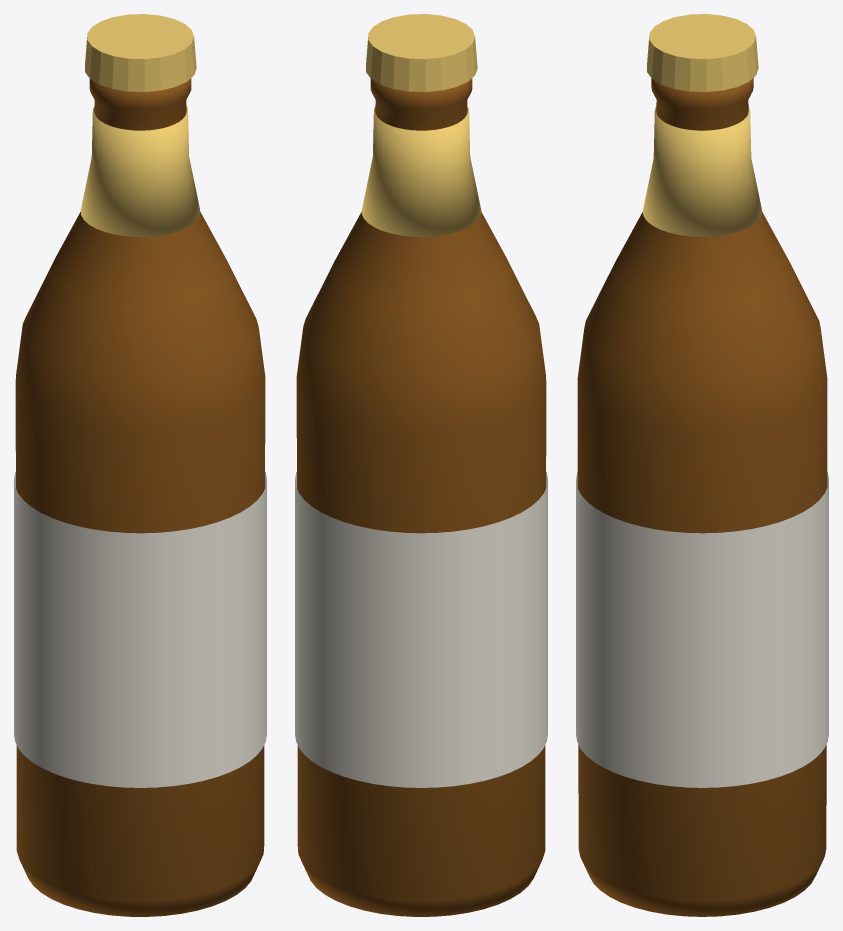
File: bottle.glb
3 renders of one model, left to right at view 1: azimuth 30°, elevation 25°; view 2: azimuth 150°, elevation 25°; view 3: azimuth 270°, elevation 25°, orthographic.
Visible parts, largest first — view 1: bottlemesh; view 2: bottlemesh; view 3: bottlemesh.
Part boxes in pixels (bbox=[...]): bottlemesh: bbox=[14, 14, 266, 916]; bottlemesh: bbox=[295, 14, 547, 916]; bottlemesh: bbox=[576, 14, 828, 916].
Size of the model in its own units: 0.0684 by 0.2503 by 0.0684.
